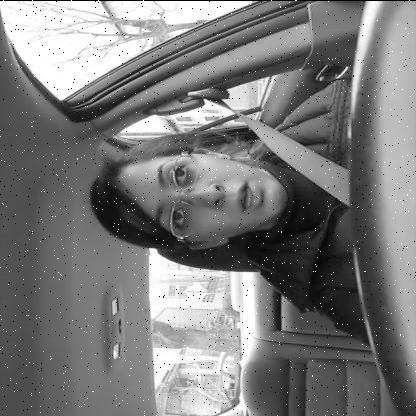seatbelt: (82, 86, 351, 260)
